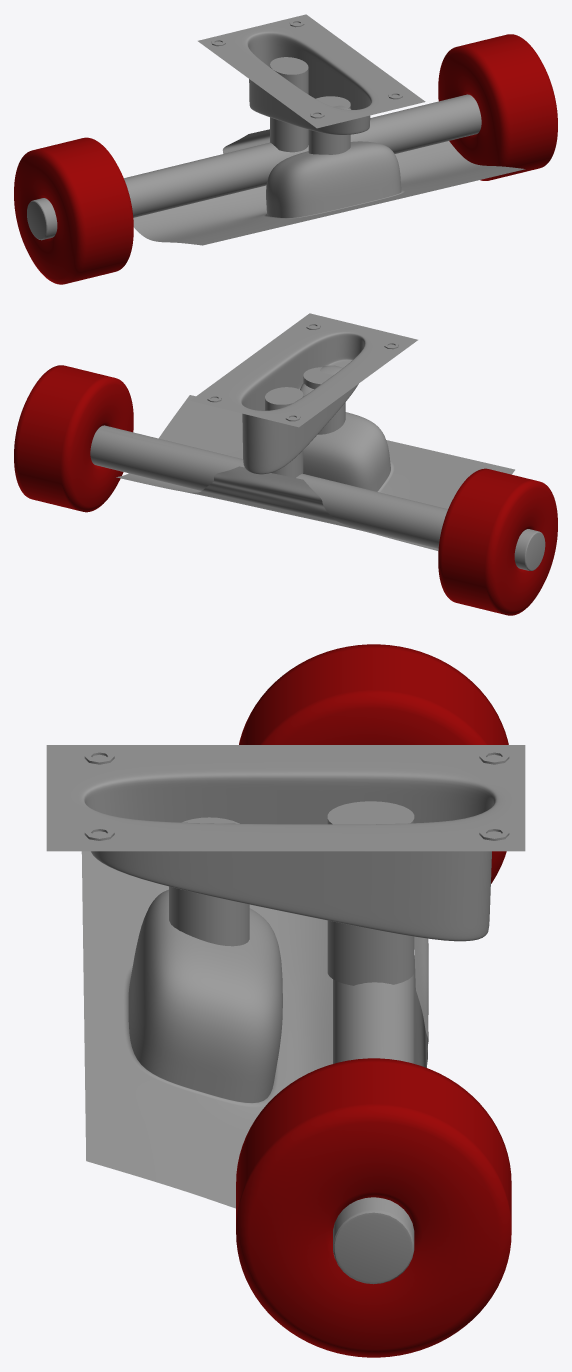
File: Skateboard - below.FBX
3 views of the same model, one above another, from view 1: azimuth 30°, elevation 25°; view 2: azimuth 150°, elevation 25°; view 3: azimuth 270°, elevation 25° (orthographic). The views are drawn at different scales.
Parts seen in each view (by area): view 1: Plane004; view 2: Plane004; view 3: Plane004.
Boxes of the visible parts, <box> form: Plane004: <box>14,14,557,284</box>; Plane004: <box>14,313,557,615</box>; Plane004: <box>46,644,525,1357</box>.
Size of the model in its own units: 12.95 by 4.1 by 5.34.
